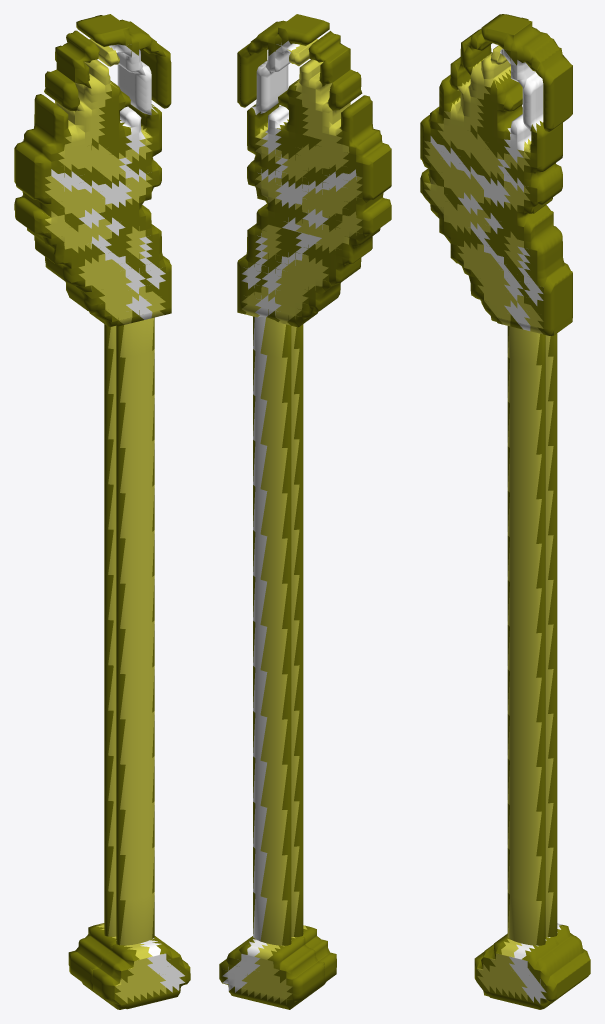
The model's file is Walker.glb.
3 renders of one model, left to right at view 1: azimuth 30°, elevation 25°; view 2: azimuth 150°, elevation 25°; view 3: azimuth 330°, elevation 25°, orthographic.
Parts seen in each view (by area): view 1: Body, RightLeg, LeftLeg, RightFoot, LeftFoot; view 2: Body, LeftLeg, RightLeg, LeftFoot, RightFoot; view 3: Body, RightLeg, LeftLeg, RightFoot, LeftFoot.
Boxes of the visible parts, x1,y1,x2,y2 form: Body: (14, 14, 171, 327); RightLeg: (116, 317, 154, 945); LeftLeg: (104, 324, 116, 936); RightFoot: (82, 936, 190, 1009); LeftFoot: (68, 923, 162, 999); Body: (237, 14, 391, 327); LeftLeg: (253, 316, 291, 945); RightLeg: (291, 324, 303, 936); LeftFoot: (219, 937, 324, 1009); RightFoot: (245, 925, 336, 1000); Body: (420, 14, 572, 335); RightLeg: (507, 326, 545, 945); LeftLeg: (545, 333, 557, 936); RightFoot: (474, 935, 577, 1009); LeftFoot: (506, 923, 590, 995).
Size of the model in its own units: 0.7171 by 4.56 by 0.3528.
Materials: 1 (1 with a texture image).
